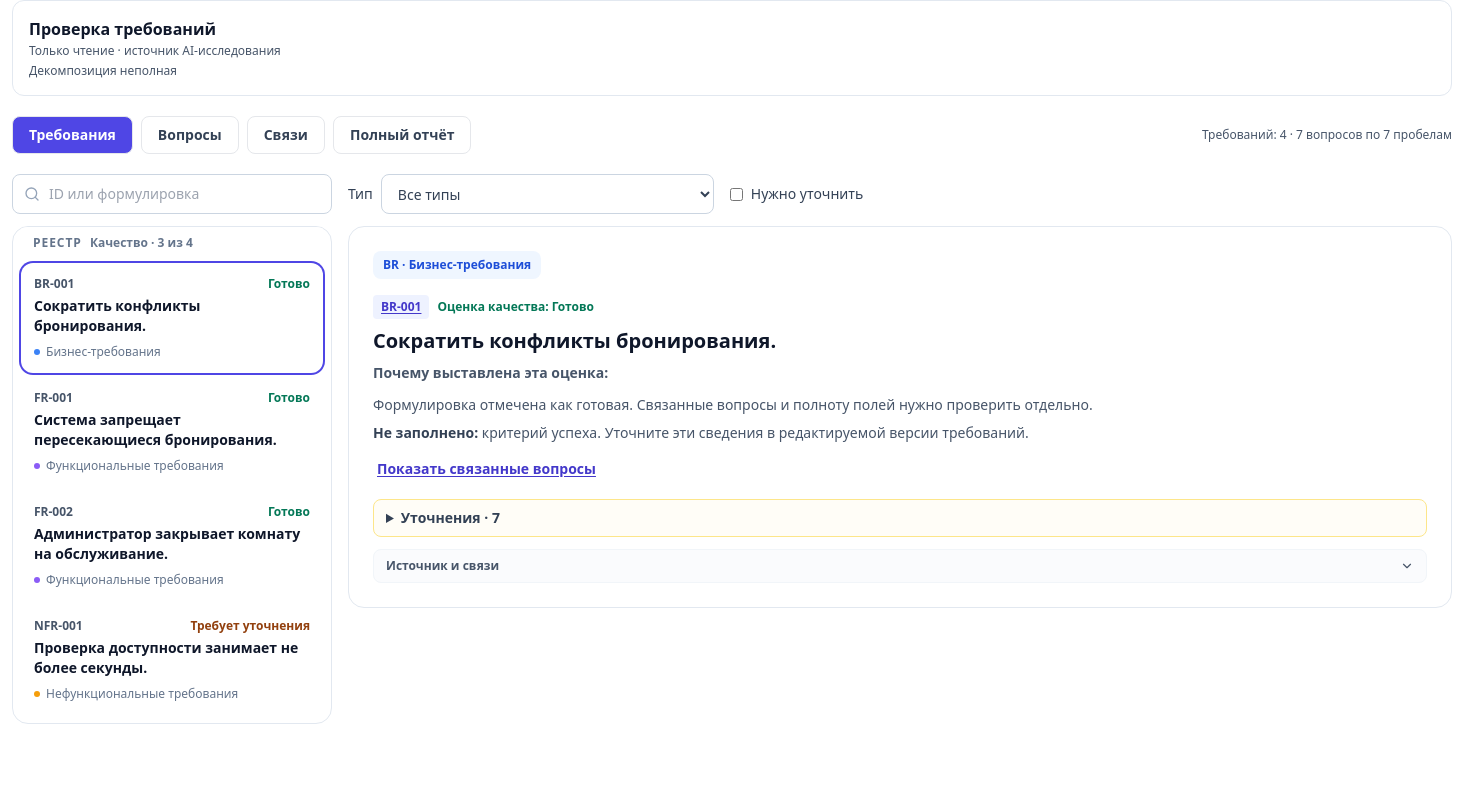
Test: initial record opens its detail and preserves read-only and final-editor composition
The width and height of the screenshot is (1464, 810).
Later steps or results of the test are not shown.
Step 1. Click the button with aria-label "Выбрать FR-001:" → [172, 432], box 21,377 -> 323,487
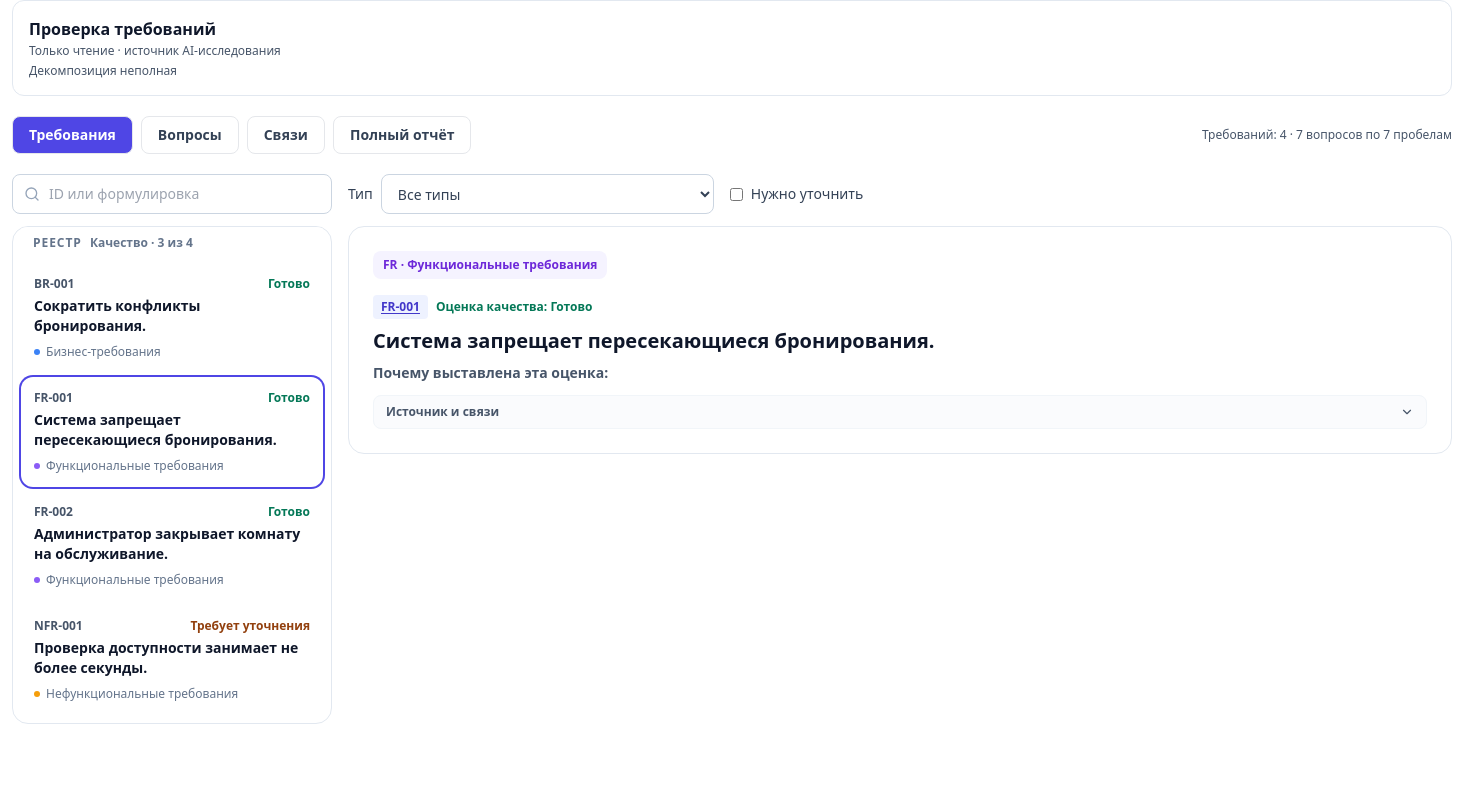
Expected: the navigation bar named "Список требований" is shown, 12,226 -> 332,724
Expected: the element named "Детали требования FR-001" is shown, 348,226 -> 1452,454
